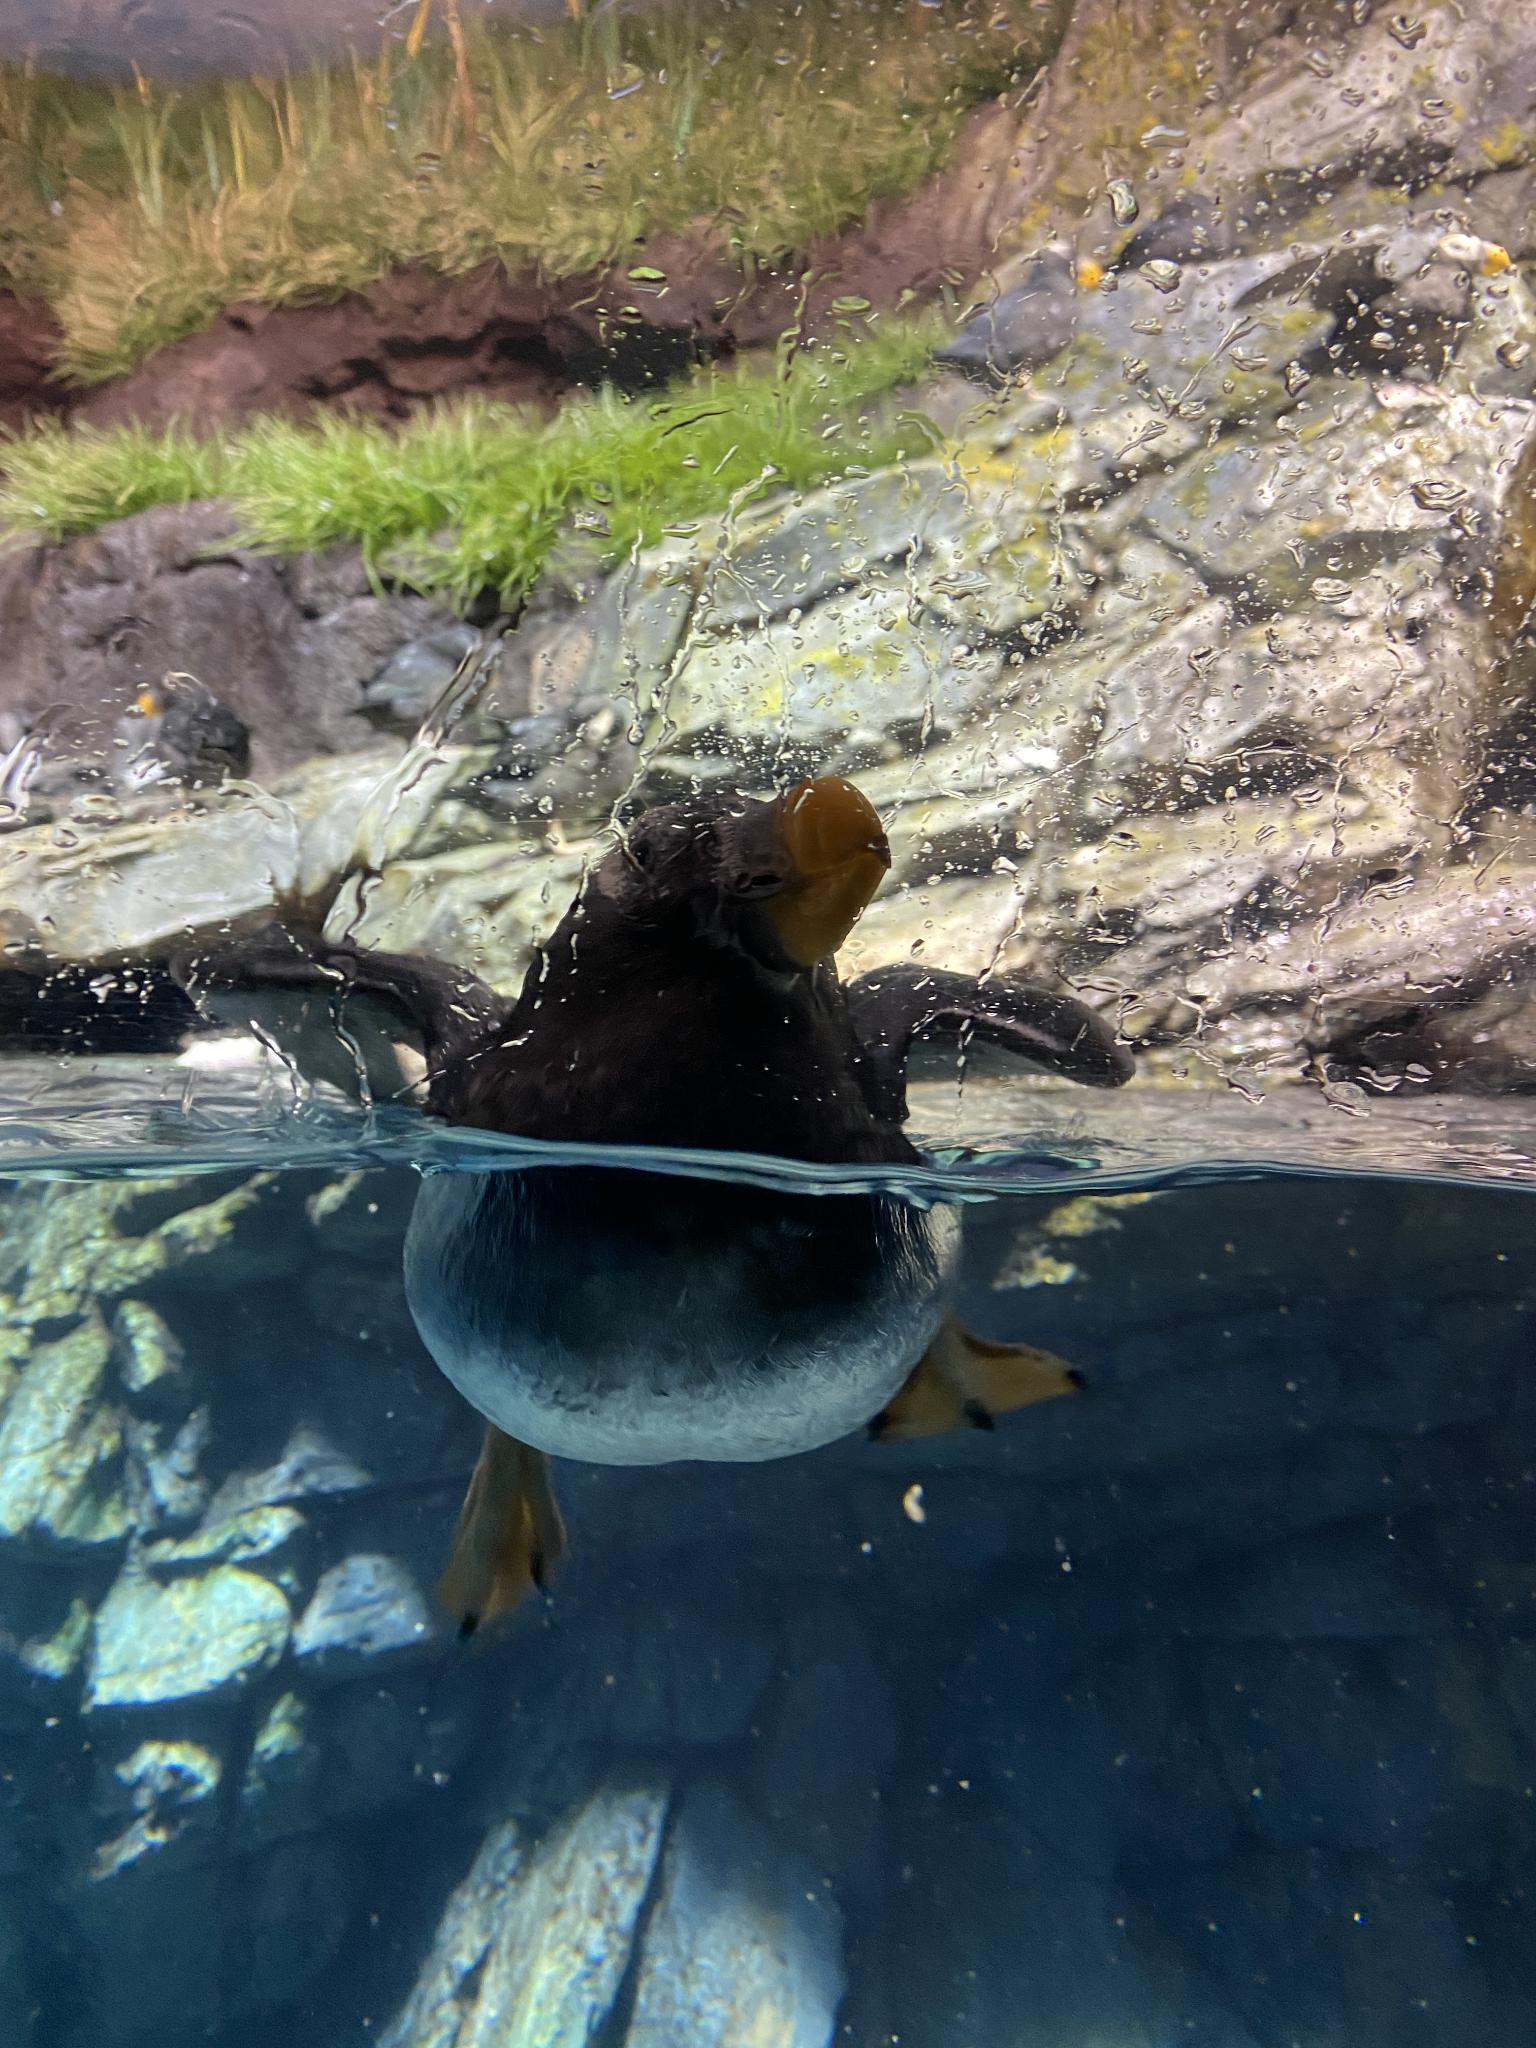puffin: (182, 784, 1142, 1646), (1229, 234, 1510, 376), (136, 664, 255, 795)
